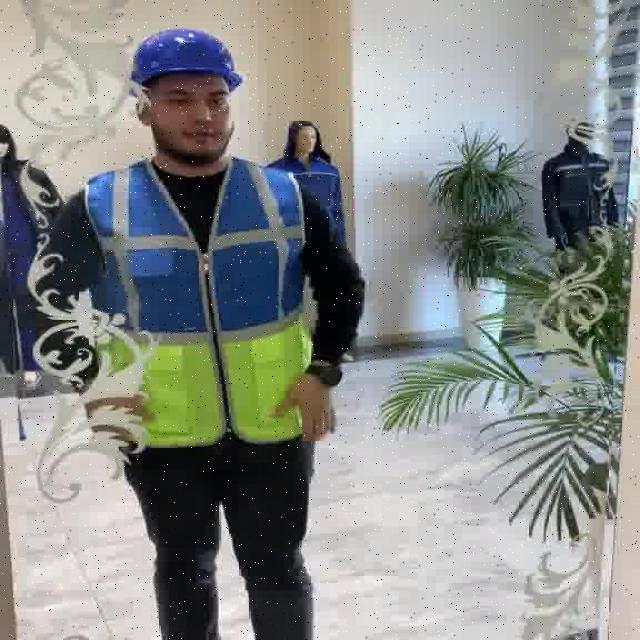Hard_hat: (119, 23, 254, 95)
Vest: (104, 153, 306, 462)
